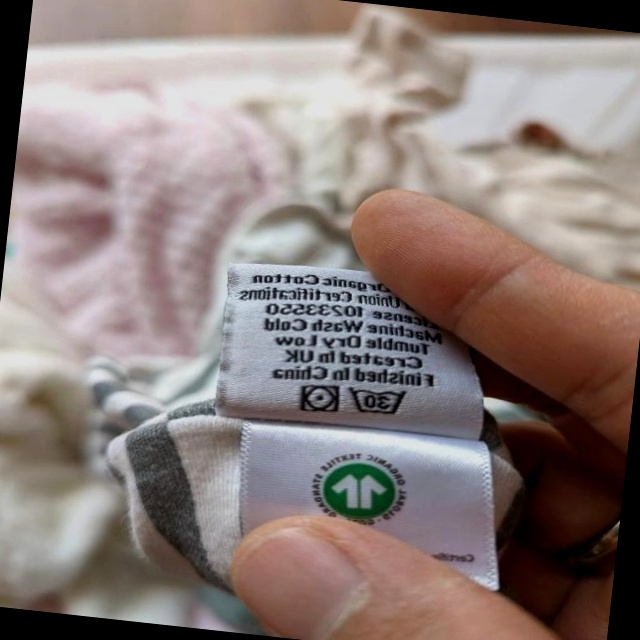30C: (344, 380, 412, 421)
tumble_dry_low: (296, 379, 343, 419)
